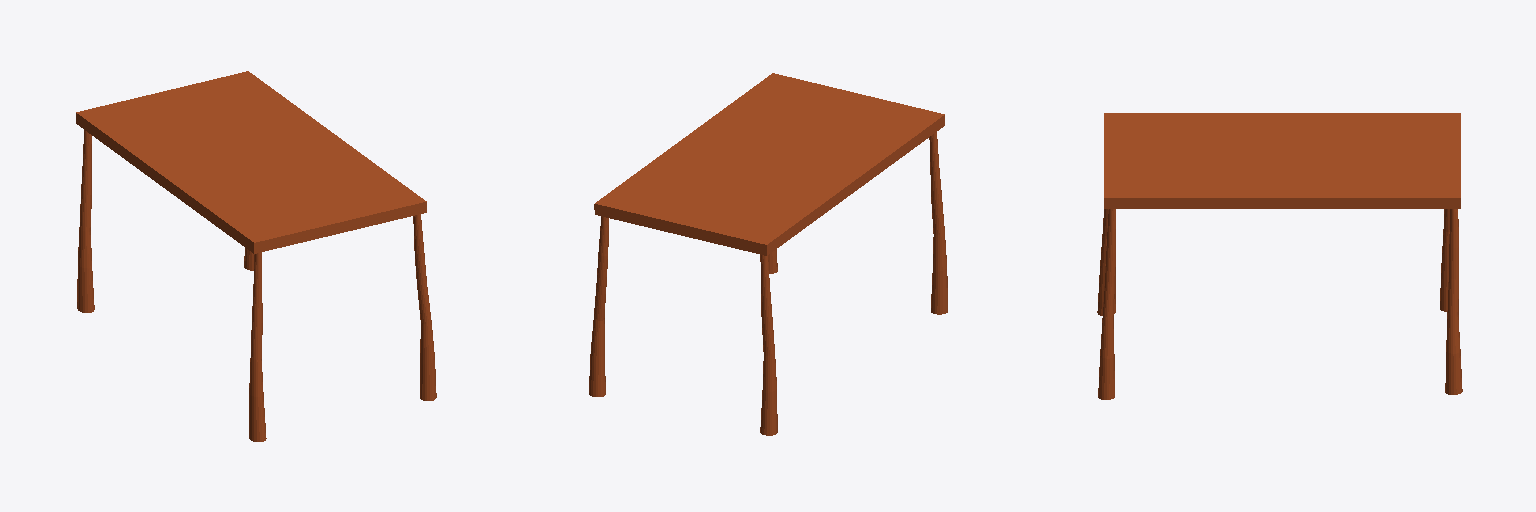
3 views of the same model, side by side, from view 1: azimuth 30°, elevation 25°; view 2: azimuth 150°, elevation 25°; view 3: azimuth 270°, elevation 25° (orthographic).
Visible parts, largest first — view 1: polySurface13; view 2: polySurface13; view 3: polySurface13.
Part boxes in pixels (x1,y1,x2,y2): polySurface13: (76, 71, 436, 441); polySurface13: (589, 73, 947, 435); polySurface13: (1097, 113, 1462, 399).
Bounding box in the file's own units: 2.04 × 2.07 × 3.46.
1 materials, 1 textured.